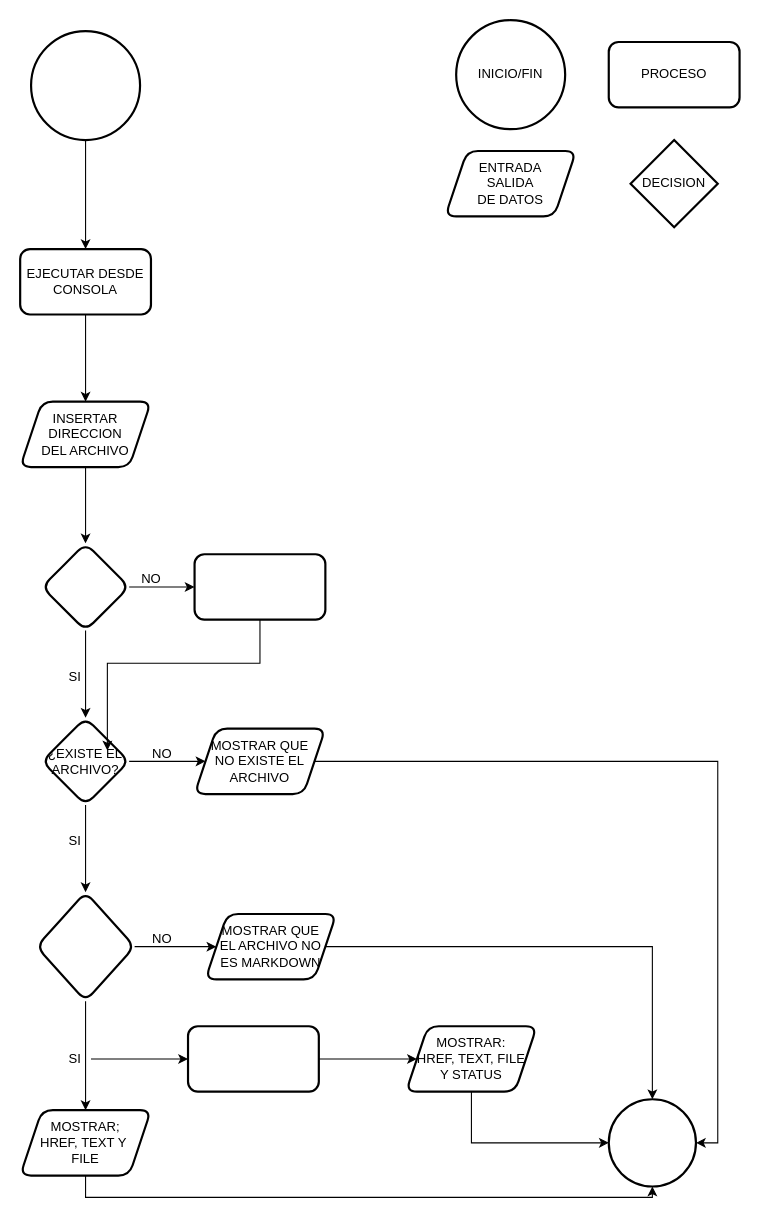
The diagram is 759 pixels wide and 1225 high, and some of its shapes have lost their labels. The centre of each missing label's shape, as x and y in pixels:
"CONVERTIR A RUTA ABSLUTA" goes at (259,586).
"FIN" goes at (652,1142).
"HITO 2; USAR VALIDATE" goes at (252,1058).
"INICIO" goes at (85,85).
"¿ES ARCHIVO MARKDOWN?" goes at (85,946).
"¿ES RUTA ABSOLUTA?" goes at (85,586).
